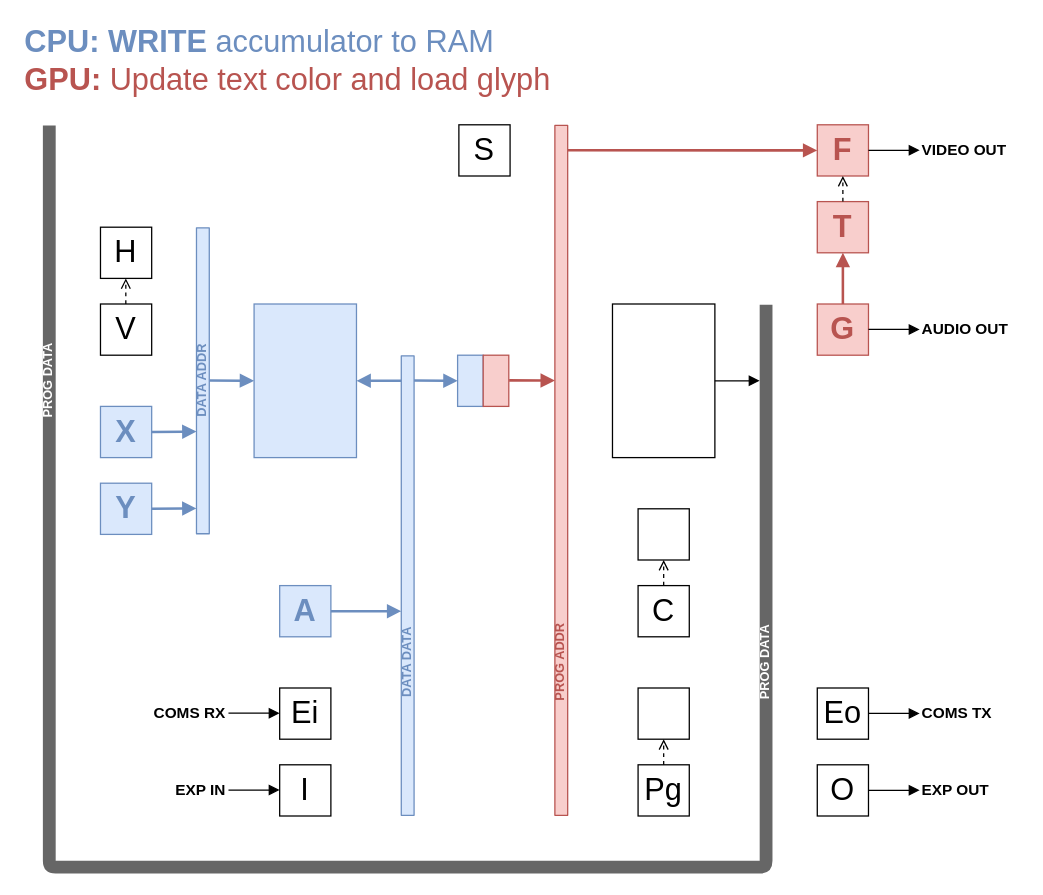
This 1043x895 diagram has some shape labels left out. The centre of each missing label's shape, as x and y in pixels:
"HL" goes at point (663, 534).
"PC" goes at point (663, 713).
"RAM" goes at point (304, 380).
"ROM" goes at point (663, 380).
